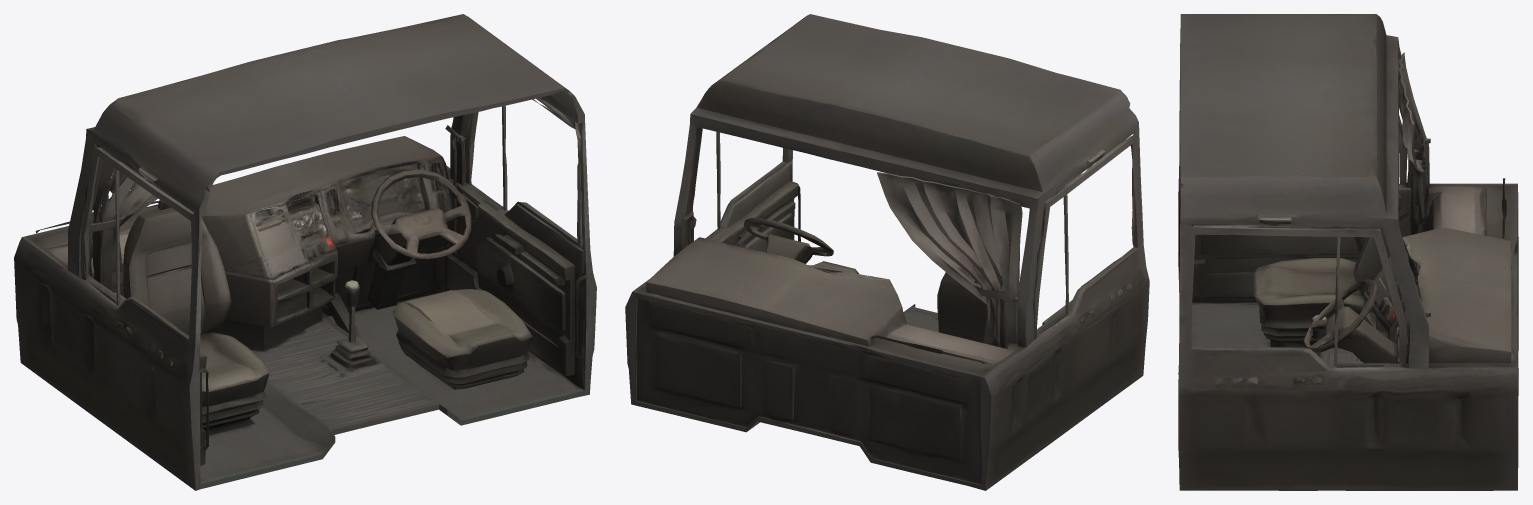
Rendered from int_caminhao.glb.
3 renders of one model, left to right at view 1: azimuth 30°, elevation 25°; view 2: azimuth 150°, elevation 25°; view 3: azimuth 270°, elevation 25°, orthographic. The views are drawn at different scales.
Parts seen in each view (by area): view 1: veiculo; view 2: veiculo; view 3: veiculo.
Boxes of the visible parts, box(x1,y1,x2,y2) form: veiculo: box(14, 14, 596, 490); veiculo: box(625, 14, 1149, 490); veiculo: box(1178, 14, 1518, 490).
Size of the model in its own units: 2.1 by 1.56 by 1.57.
Materials: 1 (1 with a texture image).
